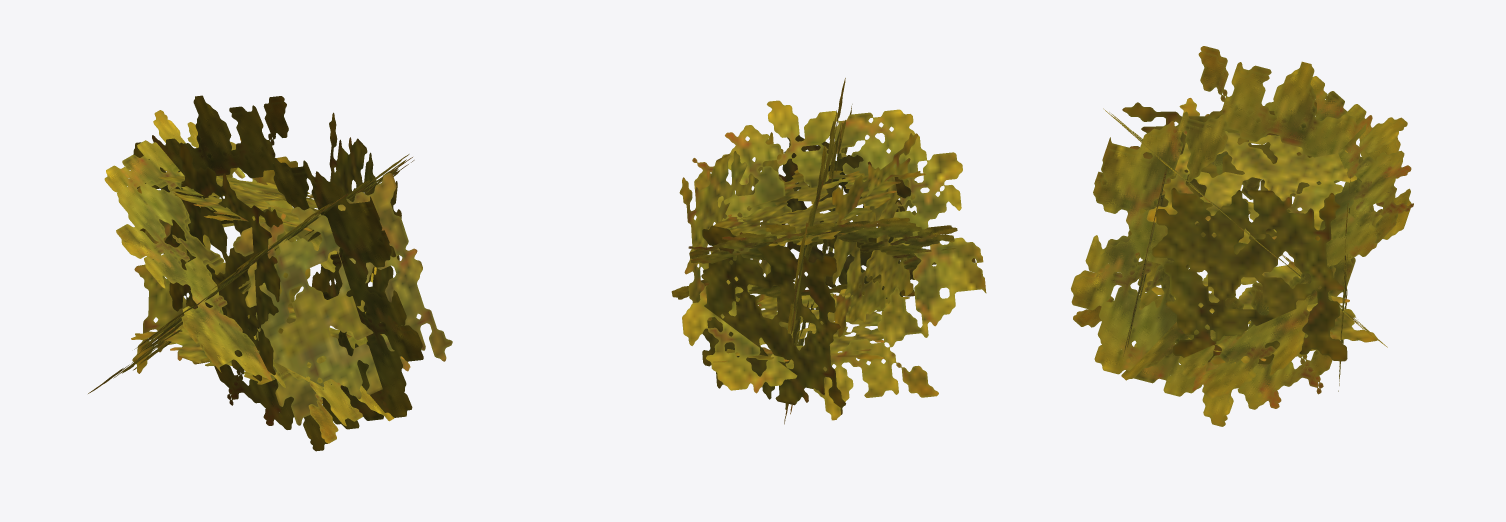
The model's file is beech_leaves_orangeish_5.obj.
3 views of the same model, side by side, from view 1: azimuth 30°, elevation 25°; view 2: azimuth 150°, elevation 25°; view 3: azimuth 270°, elevation 25° (orthographic). The views are drawn at different scales.
Visible parts, largest first — view 1: east, south, bottom, north, west, top; view 2: west, top, south, north, east, bottom; view 3: south, east, west, north, bottom.
Boxes of the visible parts, x1=… form: east: x1=131, y1=95, x2=423, y2=451; south: x1=104, y1=110, x2=410, y2=443; bottom: x1=233, y1=173, x2=452, y2=425; north: x1=169, y1=142, x2=282, y2=381; west: x1=88, y1=154, x2=414, y2=393; top: x1=132, y1=156, x2=310, y2=373; west: x1=682, y1=100, x2=986, y2=420; top: x1=701, y1=225, x2=845, y2=414; south: x1=671, y1=132, x2=975, y2=341; north: x1=832, y1=133, x2=920, y2=337; east: x1=713, y1=78, x2=909, y2=424; bottom: x1=779, y1=134, x2=913, y2=311; south: x1=1073, y1=76, x2=1413, y2=398; east: x1=1071, y1=46, x2=1411, y2=426; west: x1=1103, y1=98, x2=1387, y2=347; north: x1=1122, y1=101, x2=1319, y2=272; bottom: x1=1123, y1=157, x2=1169, y2=356.
Size of the model in its own units: 2.08 by 2.11 by 1.98.
